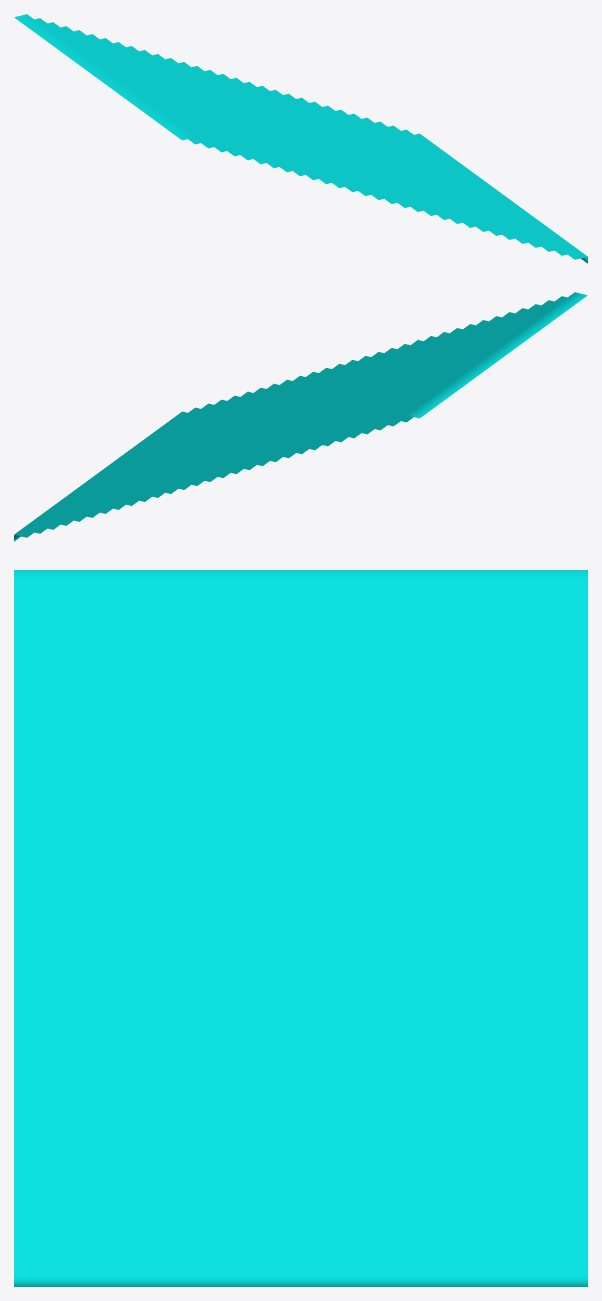
File: EscadaPassagens.fbx
3 views of the same model, one above another, from view 1: azimuth 30°, elevation 25°; view 2: azimuth 150°, elevation 25°; view 3: azimuth 270°, elevation 25° (orthographic). The views are drawn at different scales.
Parts seen in each view (by area): view 1: Escada; view 2: Escada; view 3: Escada.
Boxes of the visible parts, x1,y1,x2,y2 form: Escada: (14,14,587,263); Escada: (14,292,587,541); Escada: (14,570,587,1286).
Size of the model in its own units: 1336 by 700 by 960.
